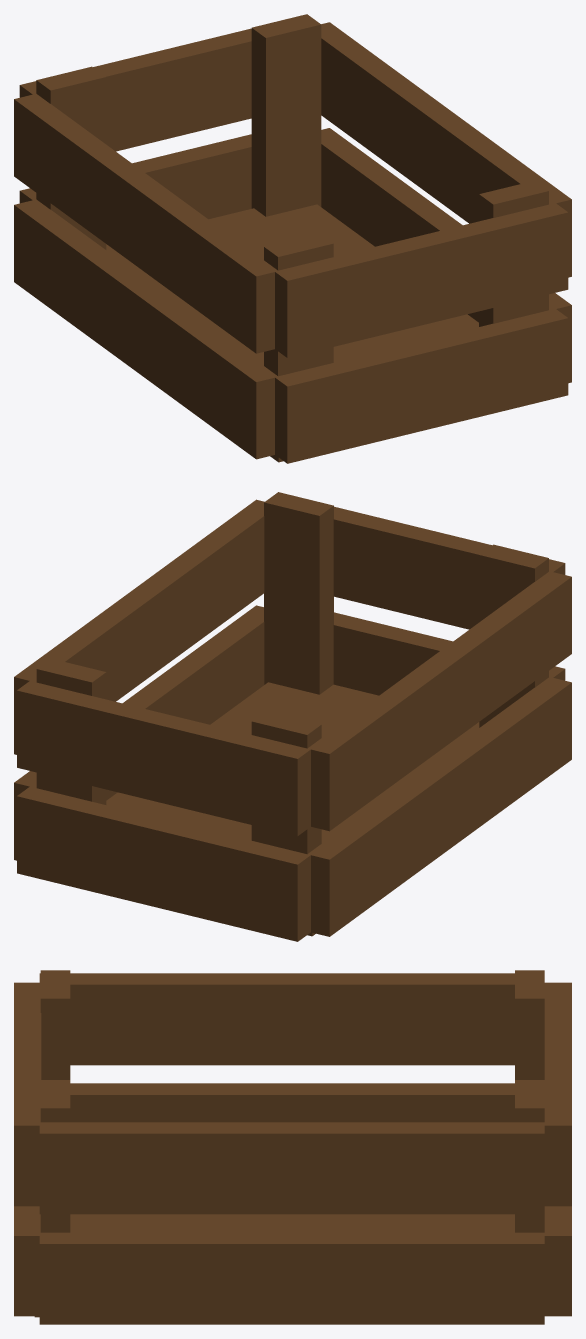
The picture shows the model from 3 angles, top to bottom: view 1: azimuth 30°, elevation 25°; view 2: azimuth 150°, elevation 25°; view 3: azimuth 270°, elevation 25°; orthographic projection. The views are drawn at different scales.
Parts seen in each view (by area): view 1: Cube.030; view 2: Cube.030; view 3: Cube.030.
Boxes of the visible parts, left/top/right/bottom form: Cube.030: left=14, top=14, right=571, bottom=463; Cube.030: left=14, top=492, right=571, bottom=941; Cube.030: left=14, top=970, right=571, bottom=1324.
Size of the model in its own units: 382 by 234 by 561.
